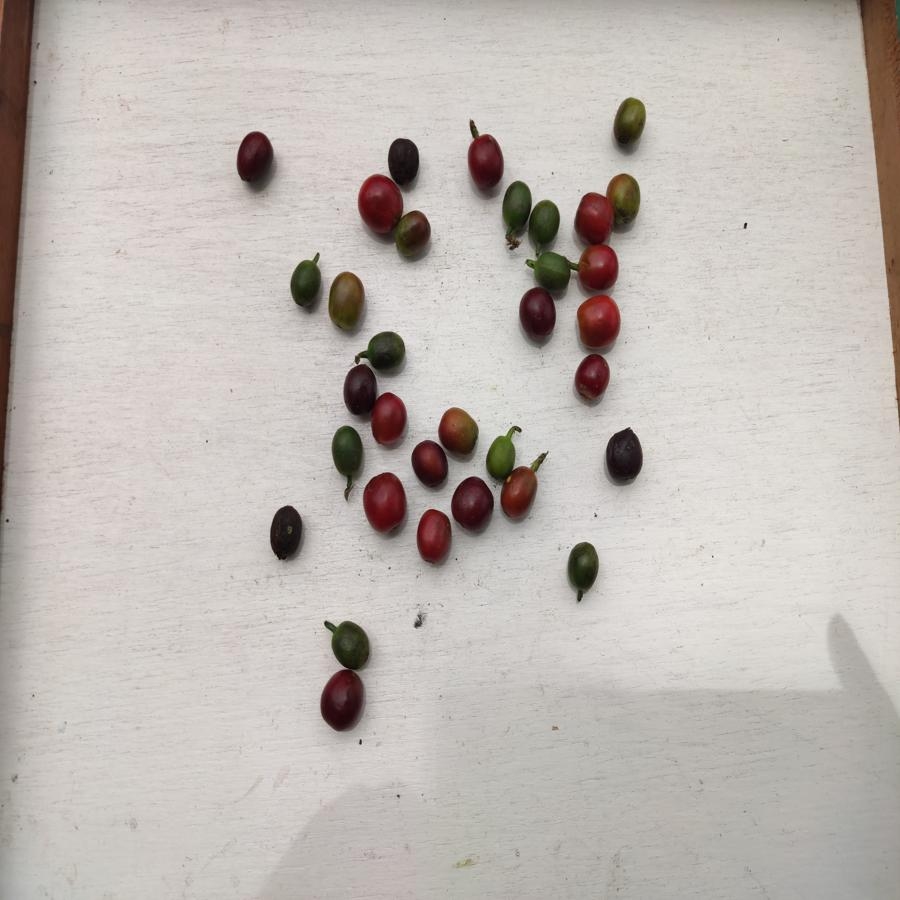Inmaduro: (327, 620, 374, 669), (565, 543, 598, 603), (330, 426, 363, 476), (481, 424, 522, 464), (365, 331, 408, 367), (502, 180, 532, 231), (290, 258, 321, 307), (531, 251, 571, 288), (530, 200, 561, 244)
Maduro: (361, 470, 407, 534), (576, 294, 624, 352), (357, 174, 401, 233), (573, 242, 620, 291), (415, 507, 452, 564), (574, 352, 612, 401), (575, 193, 612, 243), (372, 392, 406, 446)
Pinton: (328, 271, 364, 330), (502, 465, 538, 523), (441, 401, 479, 453), (610, 171, 642, 229), (614, 96, 647, 148), (400, 210, 432, 262)
Sobremaduro: (320, 671, 365, 733), (453, 474, 494, 531), (517, 288, 558, 344), (605, 427, 644, 484), (266, 505, 304, 563), (467, 133, 505, 191), (236, 130, 274, 185), (411, 439, 450, 491), (342, 365, 376, 417), (388, 134, 421, 186)
